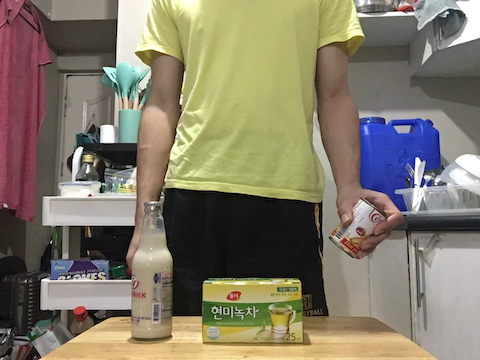bottle: (126, 196, 178, 344)
box: (200, 272, 306, 350)
can: (329, 194, 390, 262)
grab: (354, 197, 404, 263)
